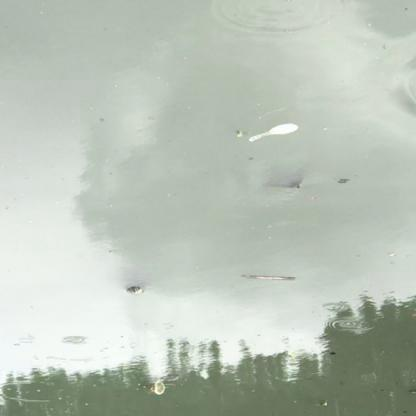Trash: (246, 120, 302, 144), (150, 376, 170, 398)
